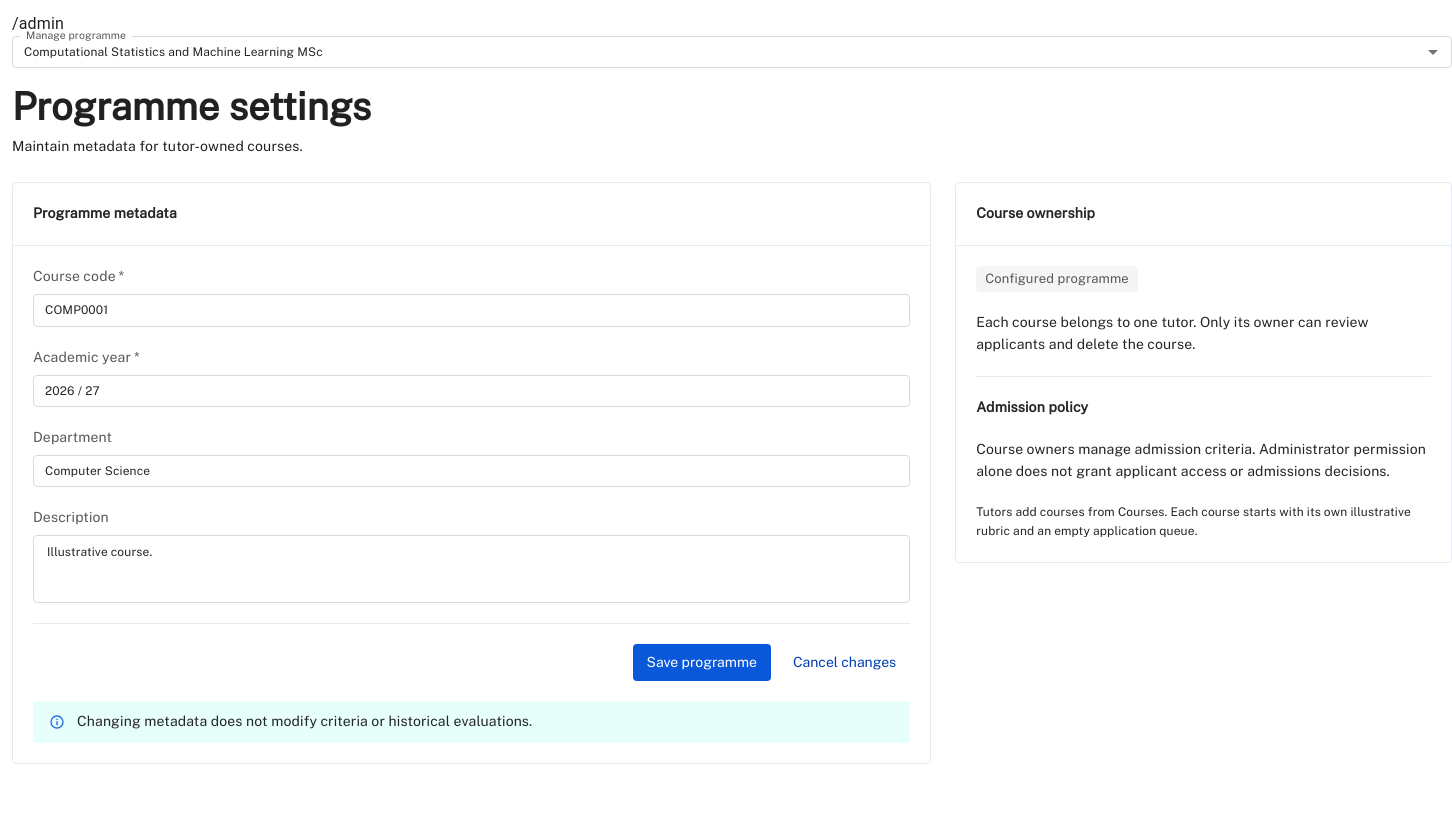
Test: programme settings › switches courses without offering administrative course creation
Step 1. Click the dropdown named "Manage programme" → (173, 52), box [24, 44, 323, 58]
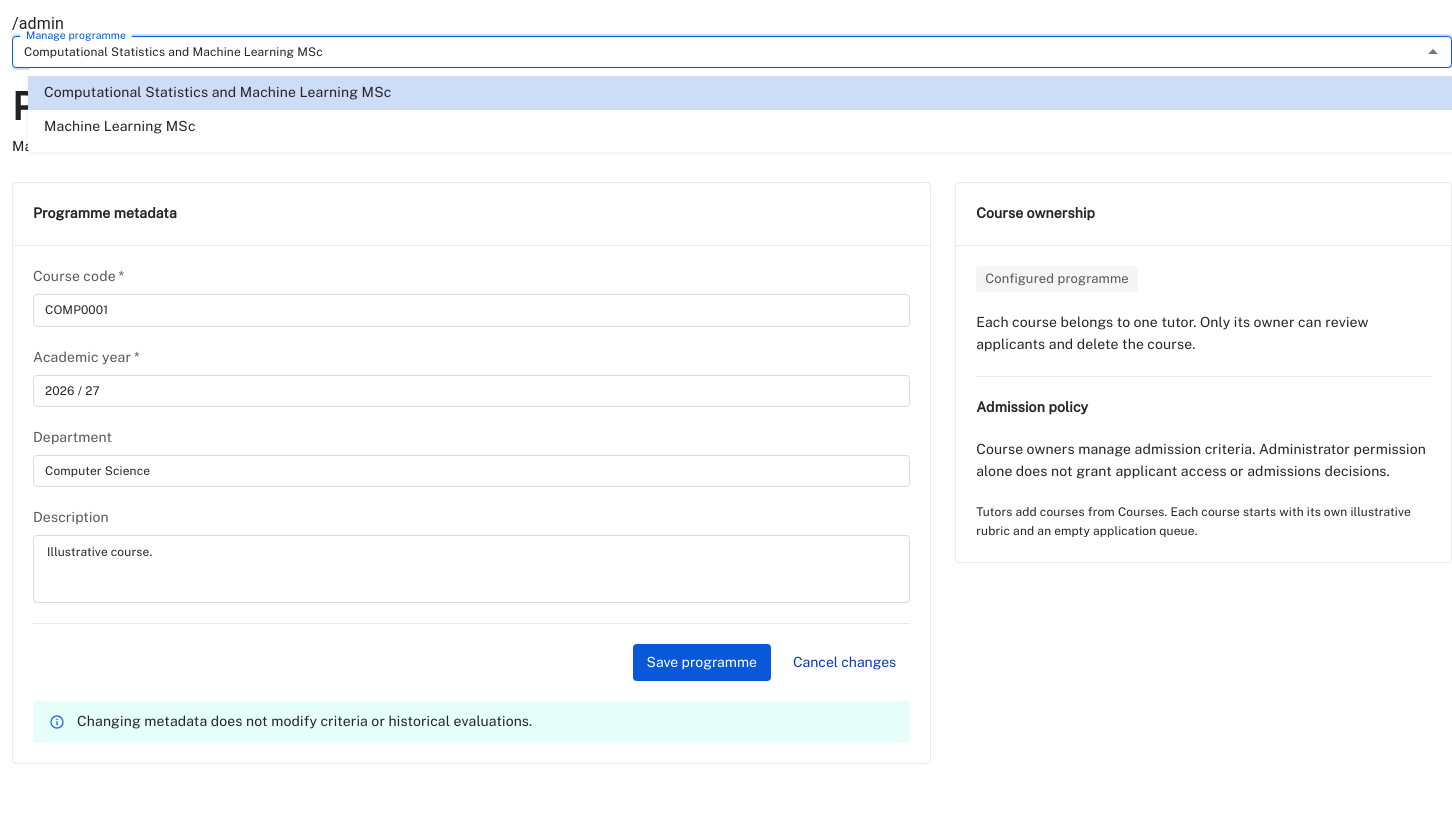
Step 2. Click the option "Machine Learning MSc" → (120, 126), box [44, 118, 196, 134]
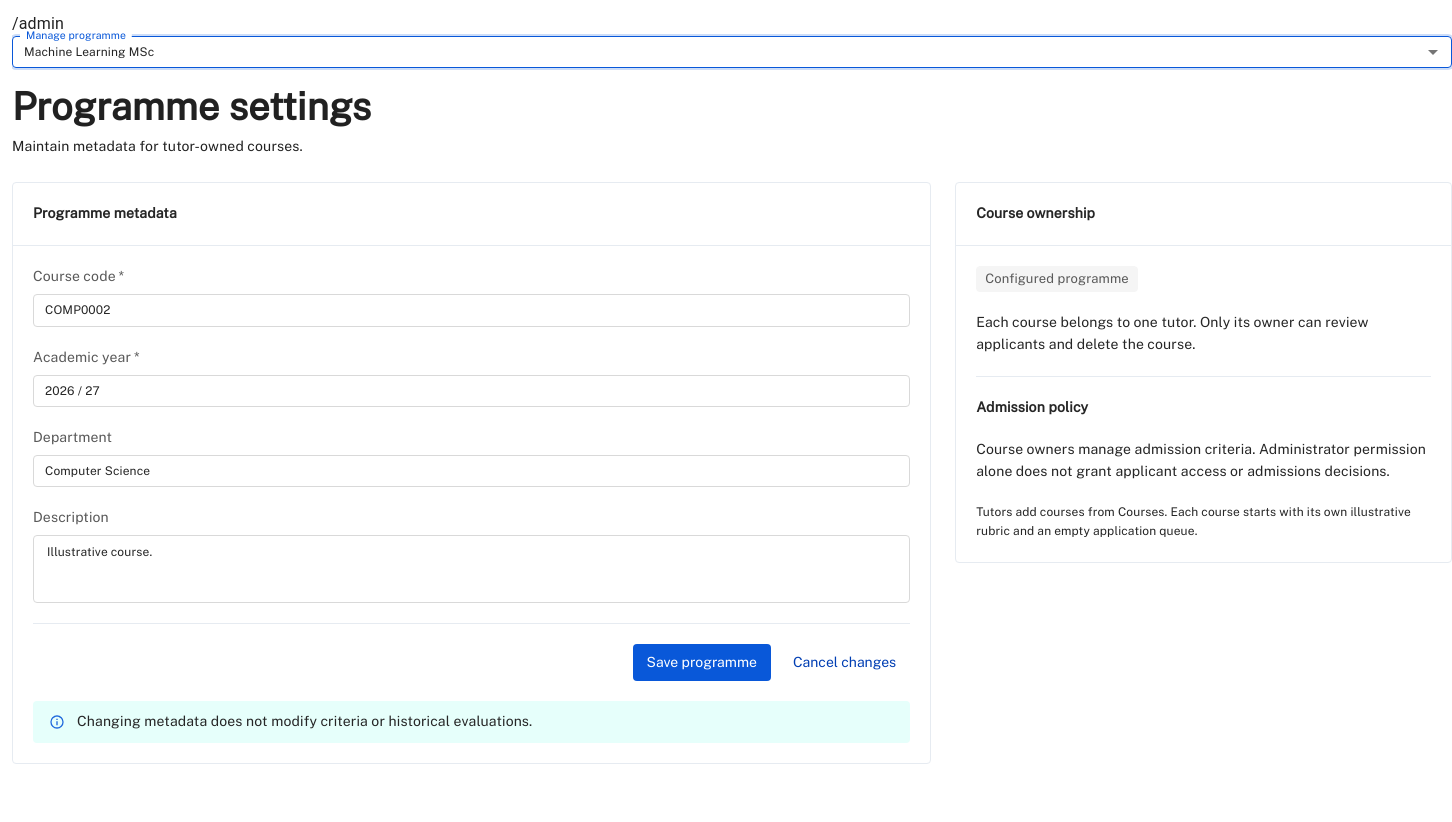
Expected: the field labelled "Course code *" holds "COMP0002", [33, 294, 910, 327]
